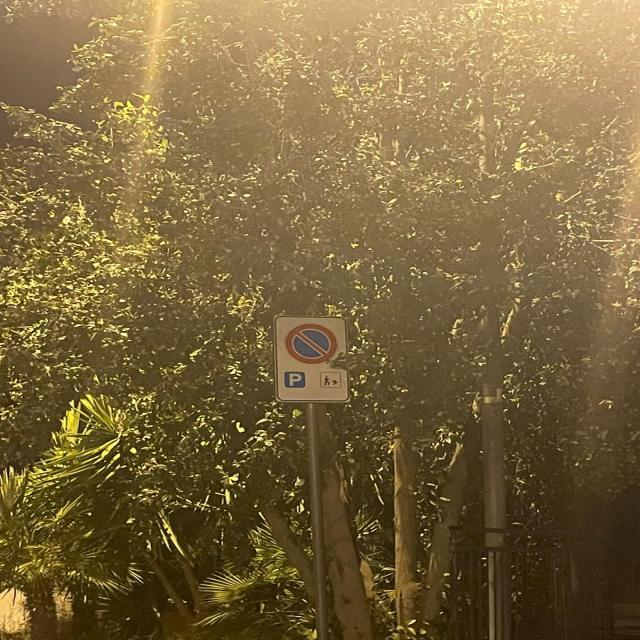forb_stopping: (285, 323, 338, 365)
